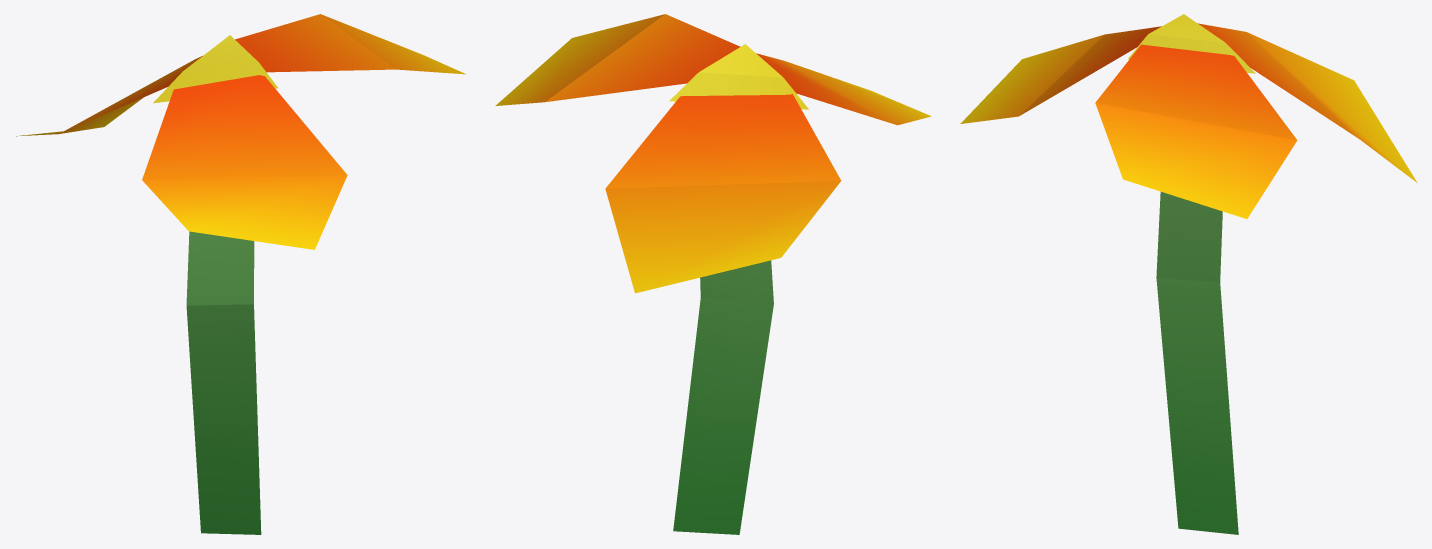
The model's file is flower2.fbx.
The picture shows the model from 3 angles, left to right: view 1: azimuth 30°, elevation 25°; view 2: azimuth 150°, elevation 25°; view 3: azimuth 270°, elevation 25°; orthographic projection. The views are drawn at different scales.
Visible parts, largest first — view 1: flower2; view 2: flower2; view 3: flower2.
Boxes of the visible parts, left/top/right/bottom form: flower2: left=16, top=14, right=465, bottom=534; flower2: left=495, top=14, right=931, bottom=534; flower2: left=960, top=14, right=1417, bottom=534.
Size of the model in its own units: 19.4 by 24.79 by 21.17.
